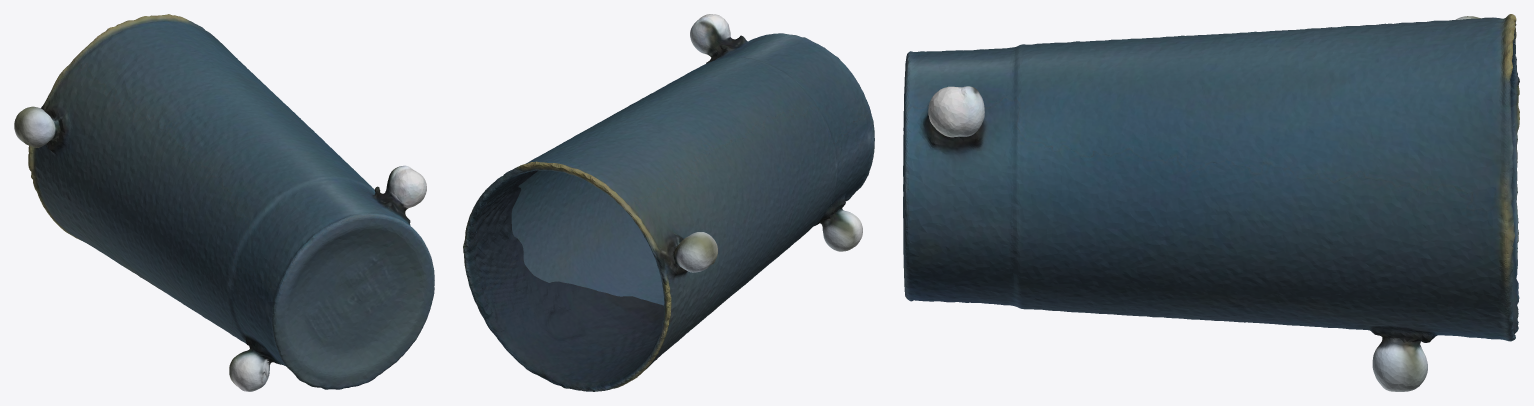
Rendered from blue_cup.glb.
3 renders of one model, left to right at view 1: azimuth 30°, elevation 25°; view 2: azimuth 150°, elevation 25°; view 3: azimuth 270°, elevation 25°, orthographic. The views are drawn at different scales.
Visible parts, largest first — view 1: bluecup; view 2: bluecup; view 3: bluecup.
Boxes of the visible parts, box(x1,y1,x2,y2) form: bluecup: box(14, 14, 434, 391); bluecup: box(463, 14, 874, 391); bluecup: box(903, 14, 1519, 391).
Bounding box in the file's own units: 0.1029 × 0.1002 × 0.1718.
1 material, 1 textured.
